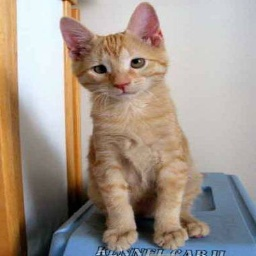cat: (55, 1, 212, 245)
